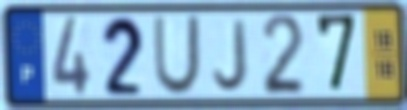2: (99, 11, 150, 101), (259, 12, 308, 98)
4: (50, 14, 94, 99)
7: (314, 12, 358, 97)
J: (211, 16, 250, 94)
U: (152, 13, 203, 98)
